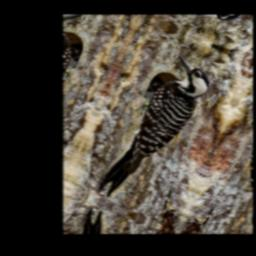Woodpecker: (94, 46, 217, 217)
